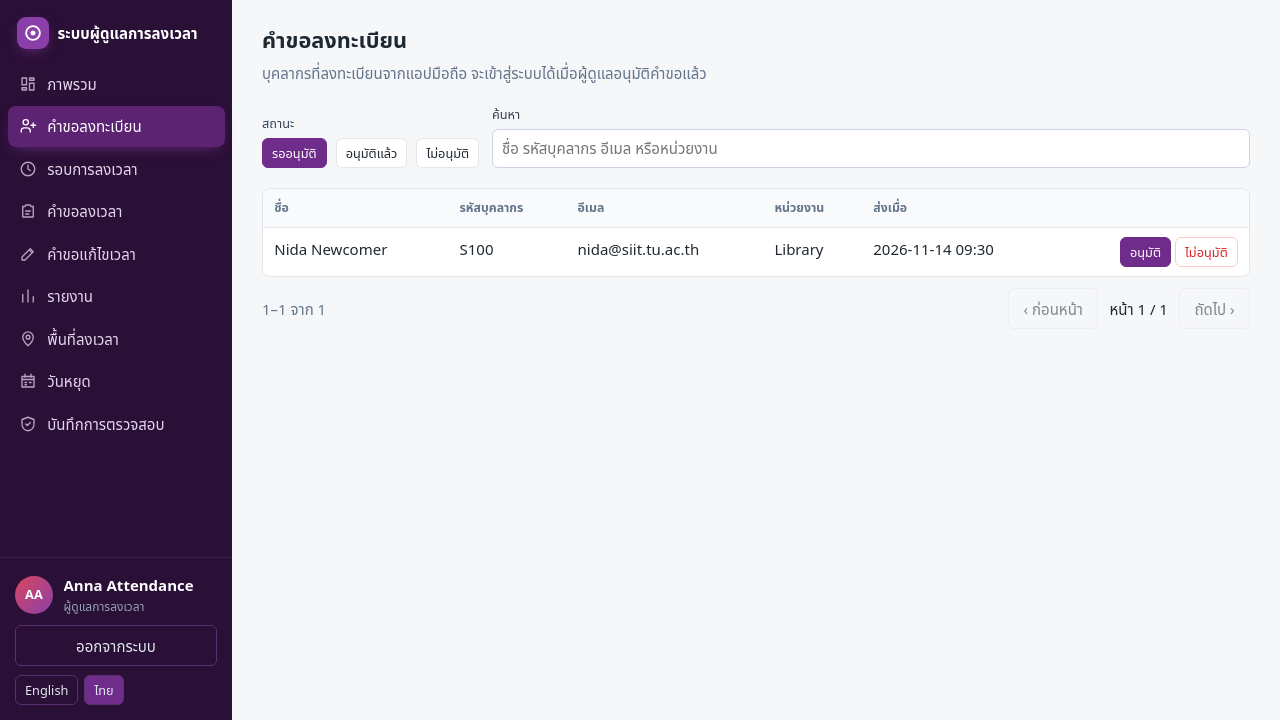
Test case: Sign-up requests › renders in Thai
Expected: the heading "คำขอลงทะเบียน" is shown, [262, 24, 407, 54]
Expected: the text "Nida Newcomer" is shown, [263, 228, 448, 276]
What coordinates should you click on to do the following:
click the button with aria-label "ไม่อนุมัติ Nida Newcomer"
I would click on:
 (1206, 252)
Its box is [1175, 237, 1238, 267].
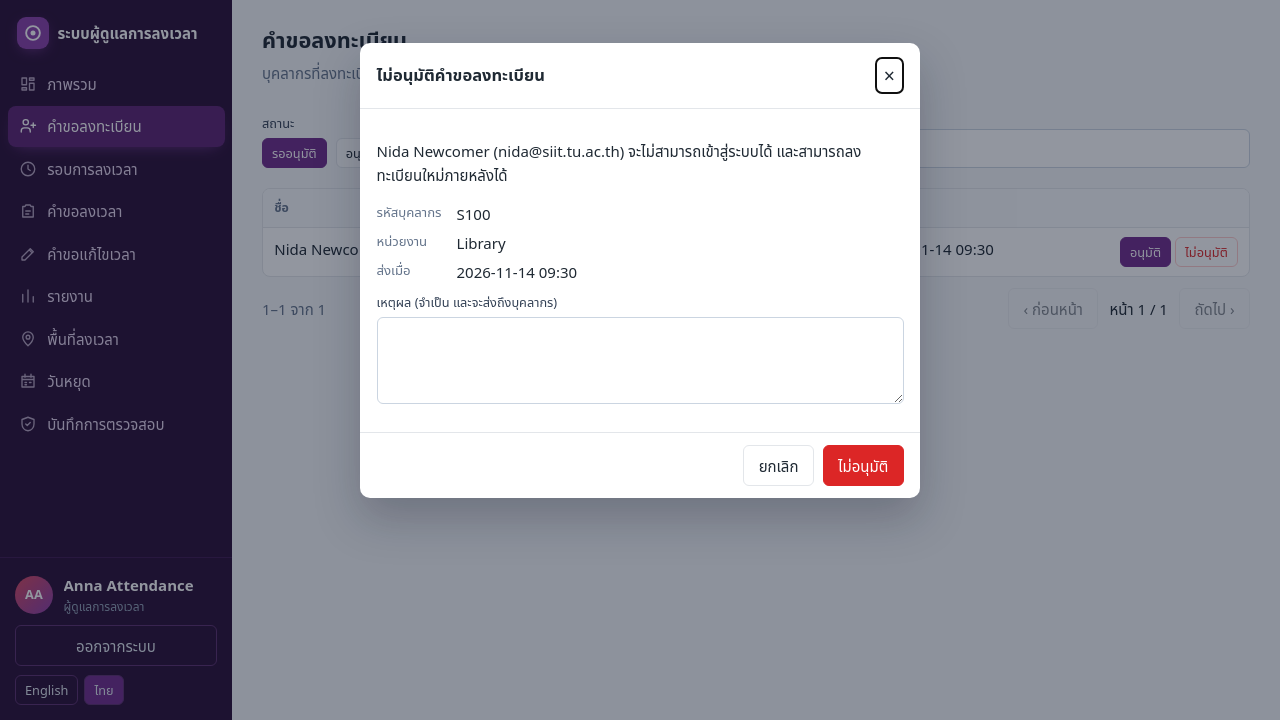
What coordinates should you click on to do the following:
click the button "ไม่อนุมัติ"
I would click on:
 (863, 466)
Its box is [823, 445, 904, 486].
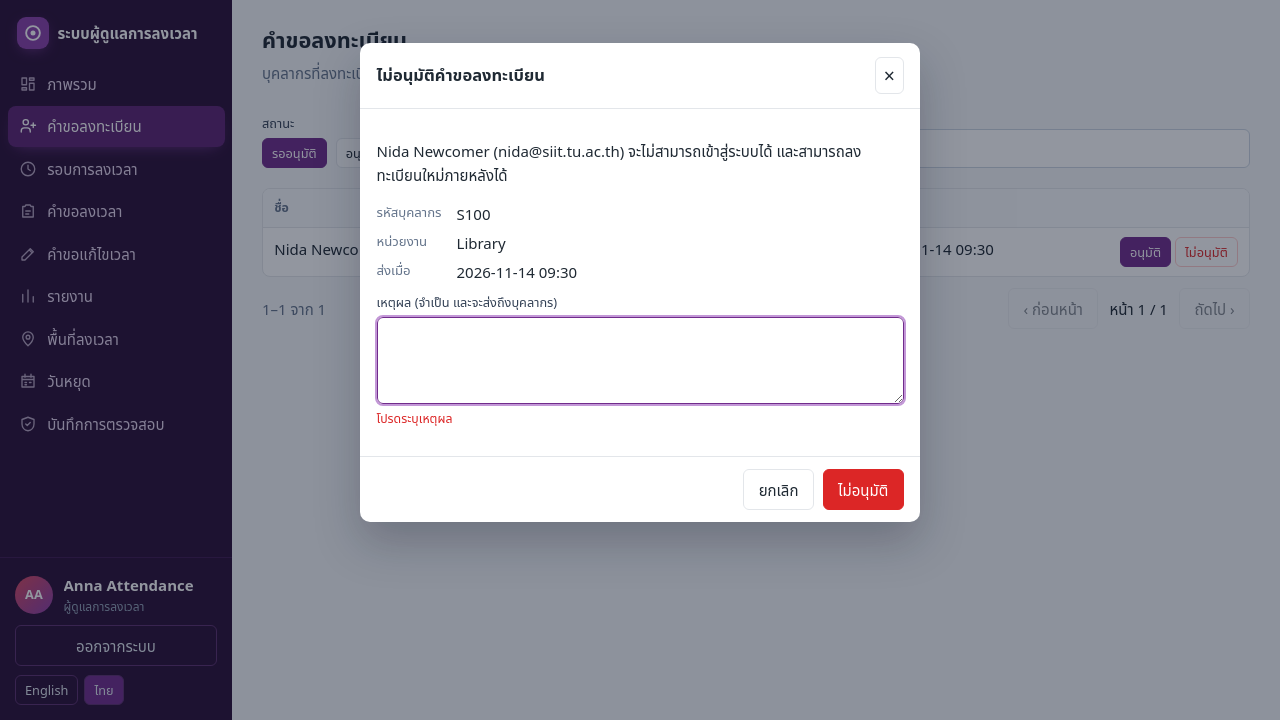
Now the text "โปรดระบุเหตุผล" is shown, box [376, 410, 452, 427]
